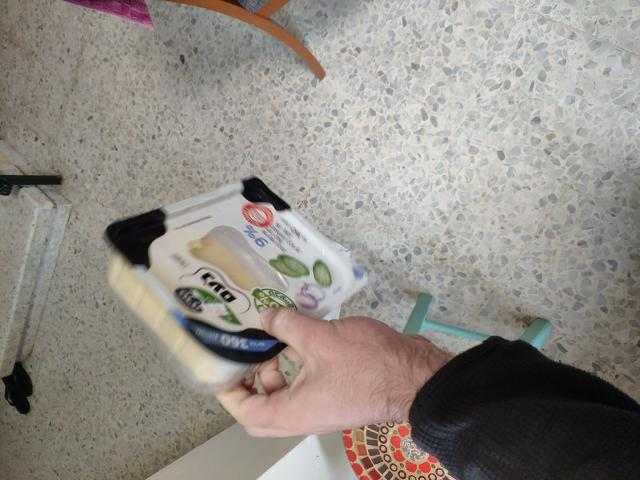cheese: (102, 144, 338, 459)
